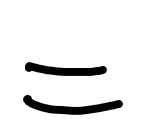eqv: (20, 60, 125, 116)
